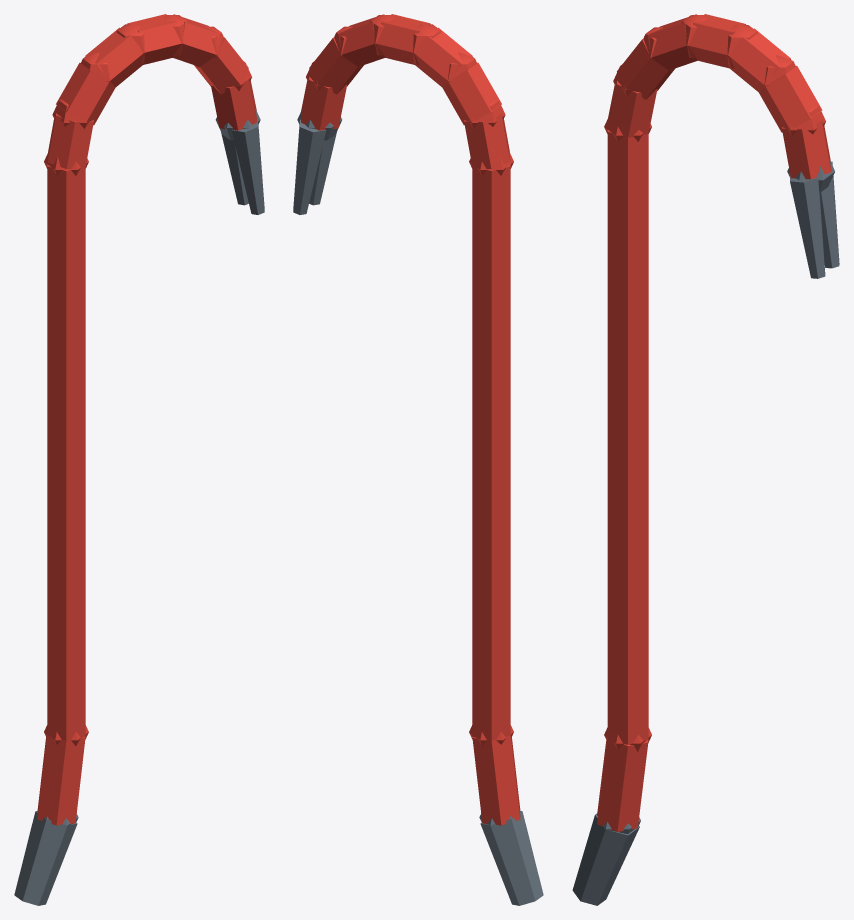
The model's file is crowbar.fbx.
The picture shows the model from 3 angles, left to right: view 1: azimuth 30°, elevation 25°; view 2: azimuth 150°, elevation 25°; view 3: azimuth 330°, elevation 25°; orthographic projection. The views are drawn at different scales.
Visible parts, largest first — view 1: Crowbar; view 2: Crowbar; view 3: Crowbar.
Boxes of the visible parts, box(x1,y1,x2,y2) form: Crowbar: box(14, 14, 264, 905); Crowbar: box(293, 14, 543, 905); Crowbar: box(572, 14, 839, 905).
Size of the model in its own units: 0.0725 by 0.2474 by 0.014.
Materials: 1 (1 with a texture image).
